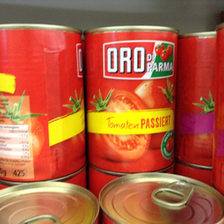tomato_sauce: (83, 25, 179, 174), (1, 23, 85, 184)
